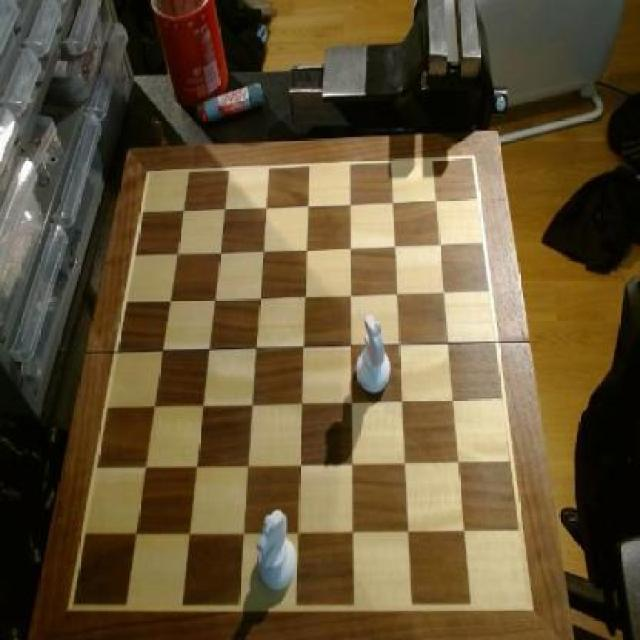white-king: (255, 509, 300, 593), (352, 311, 395, 398)
